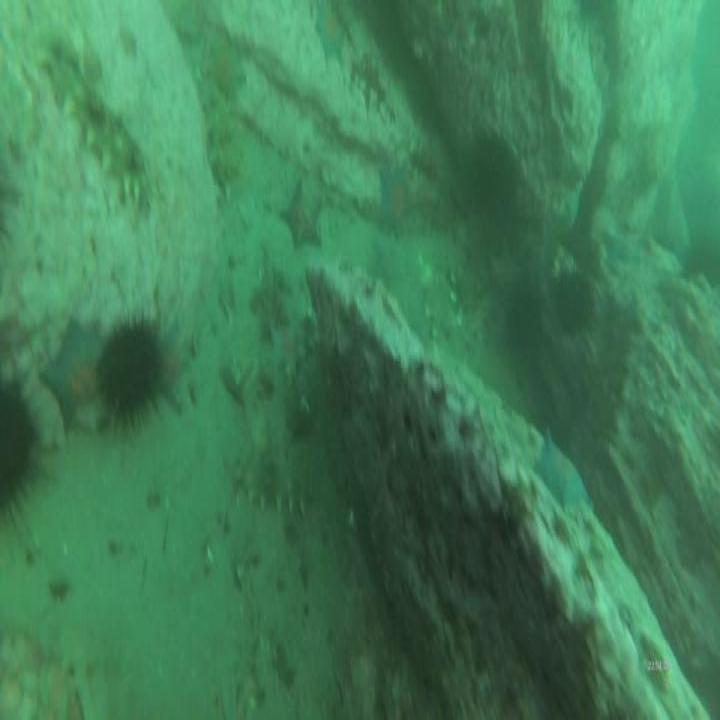echinus: (0, 371, 49, 534), (100, 316, 166, 434), (471, 126, 519, 222), (552, 261, 598, 343), (680, 233, 720, 284)
holothurian: (44, 50, 149, 206), (222, 441, 324, 523), (195, 68, 243, 190)
starfish: (37, 306, 109, 434), (534, 425, 595, 517), (277, 176, 327, 254), (154, 318, 190, 416), (377, 160, 418, 236), (312, 0, 349, 60)
